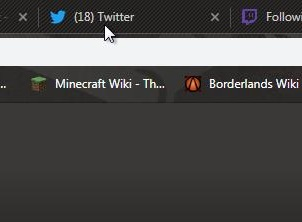cursor: (102, 23, 117, 45)
